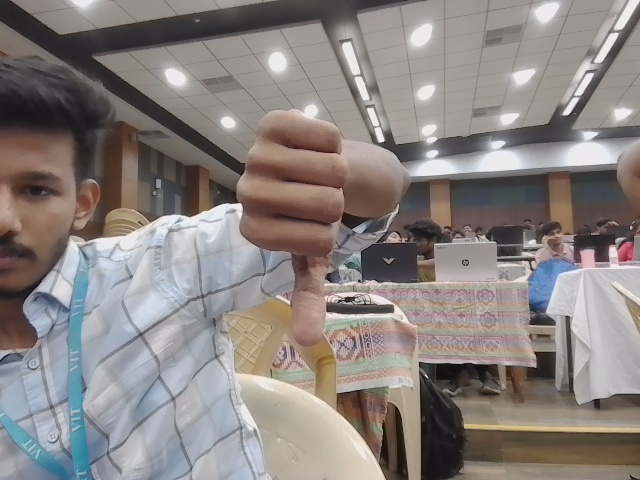no: (236, 105, 350, 344)
